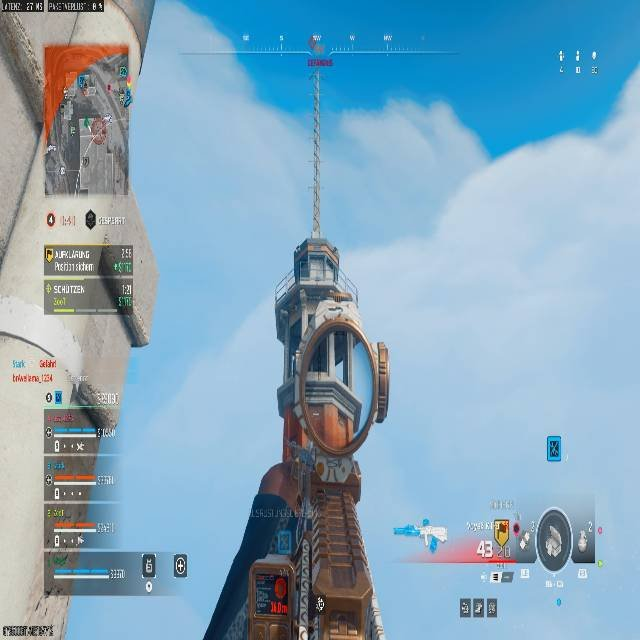head: (291, 239, 340, 283)
player: (202, 238, 397, 640)
